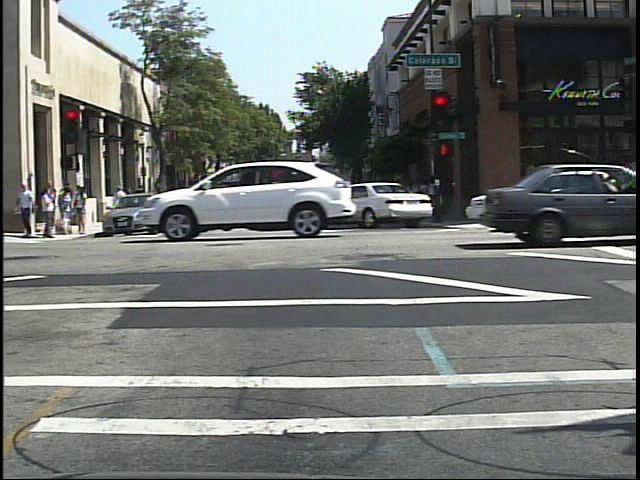person: (110, 180, 130, 225)
